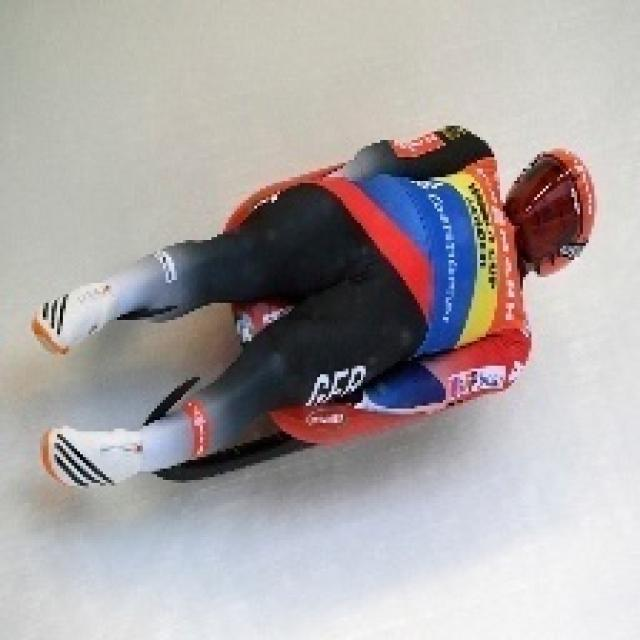luge: (29, 116, 602, 503)
